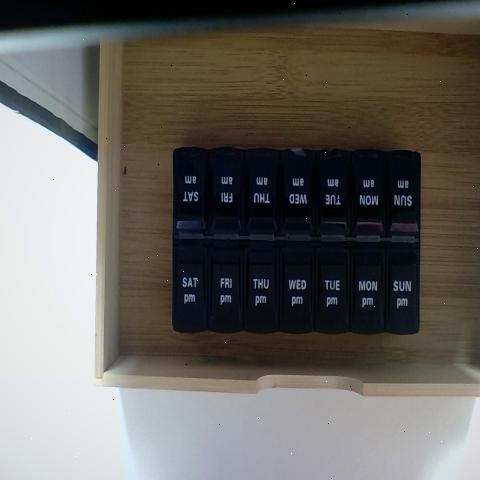FRI-am: (212, 152, 245, 238)
FRI-pm: (207, 245, 243, 331)
MON-am: (352, 150, 385, 238)
MON-pm: (349, 246, 385, 332)
SAT-am: (176, 148, 207, 239)
SAT-pm: (173, 244, 205, 328)
SUN-am: (384, 152, 420, 242)
SUN-pm: (386, 247, 420, 333)
THU-am: (249, 150, 279, 237)
THU-pm: (246, 245, 280, 331)
TUE-am: (314, 153, 352, 238)
TUE-pm: (314, 241, 350, 333)
WED-am: (281, 152, 317, 242)
WED-pm: (278, 240, 318, 332)
